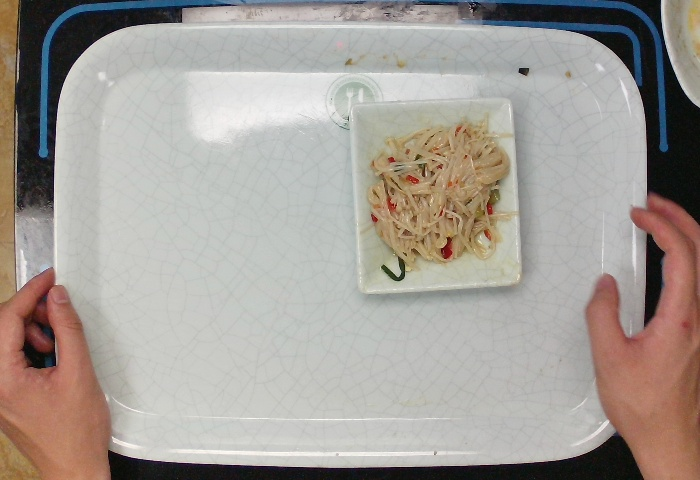WCQzf-Ru_Ci_Si_Fang_Die: (347, 94, 527, 295)
